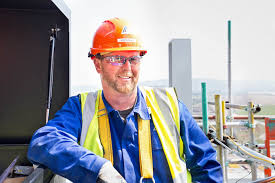hard hat: (90, 17, 149, 60)
high-vis: (78, 86, 193, 178)
